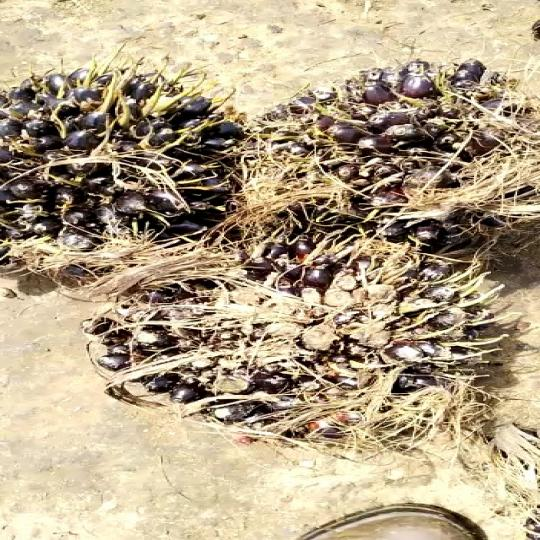mentah: (119, 242, 512, 462), (0, 64, 265, 278), (250, 66, 528, 259)
